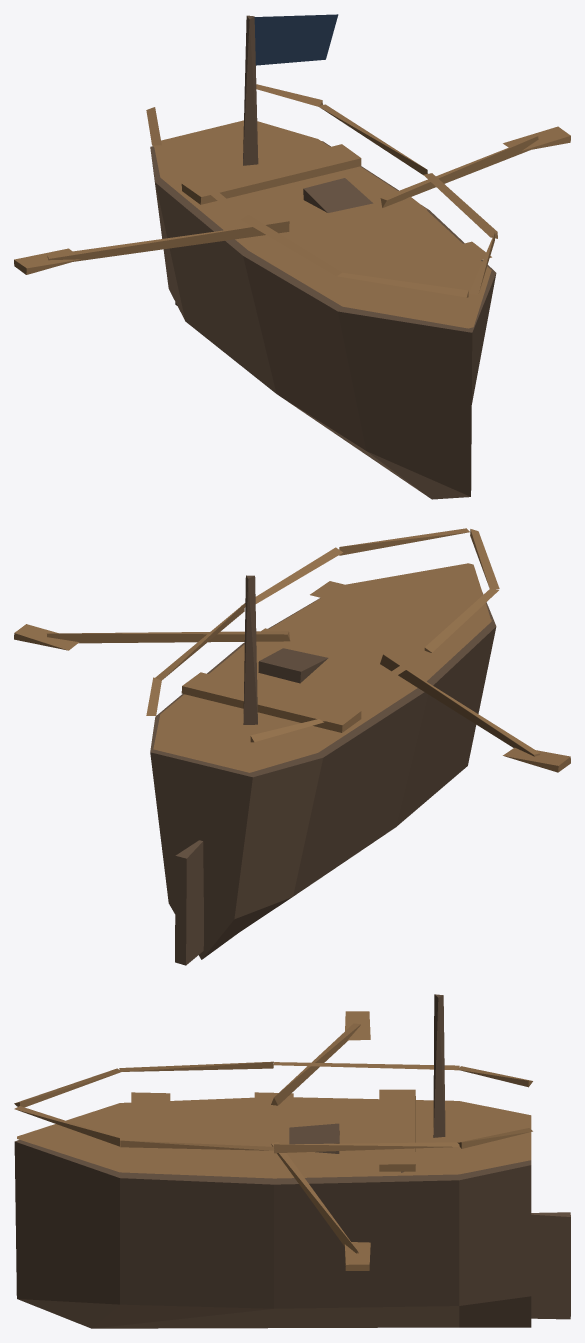
File: ships-rowboat.lod2.glb
3 views of the same model, one above another, from view 1: azimuth 30°, elevation 25°; view 2: azimuth 150°, elevation 25°; view 3: azimuth 270°, elevation 25° (orthographic). The views are drawn at different scales.
Visible parts, largest first — view 1: ships-rowboat__body, ships-rowboat__flag, ships-rowboat__oar--1, ships-rowboat__oar-1, ships-rowboat__hatch; view 2: ships-rowboat__body, ships-rowboat__rudder, ships-rowboat__oar-1, ships-rowboat__oar--1, ships-rowboat__hatch; view 3: ships-rowboat__body, ships-rowboat__rudder, ships-rowboat__oar-1, ships-rowboat__oar--1, ships-rowboat__hatch.
Boxes of the visible parts, <box> form: ships-rowboat__body: <box>146,15,497,499</box>; ships-rowboat__flag: <box>254,14,338,65</box>; ships-rowboat__oar--1: <box>14,221,289,274</box>; ships-rowboat__oar-1: <box>380,126,570,207</box>; ships-rowboat__hatch: <box>303,178,373,212</box>; ships-rowboat__body: <box>146,528,499,959</box>; ships-rowboat__rudder: <box>175,840,203,965</box>; ships-rowboat__oar-1: <box>14,624,290,650</box>; ships-rowboat__oar--1: <box>380,654,570,772</box>; ships-rowboat__hatch: <box>258,648,328,683</box>; ships-rowboat__body: <box>14,994,532,1328</box>; ships-rowboat__rudder: <box>531,1212,570,1319</box>; ships-rowboat__oar-1: <box>271,1142,370,1270</box>; ships-rowboat__oar--1: <box>271,1011,370,1105</box>; ships-rowboat__hatch: <box>289,1123,339,1153</box>.
Size of what is drawn, in the model's own units: 4.67 by 2.86 by 4.33.
